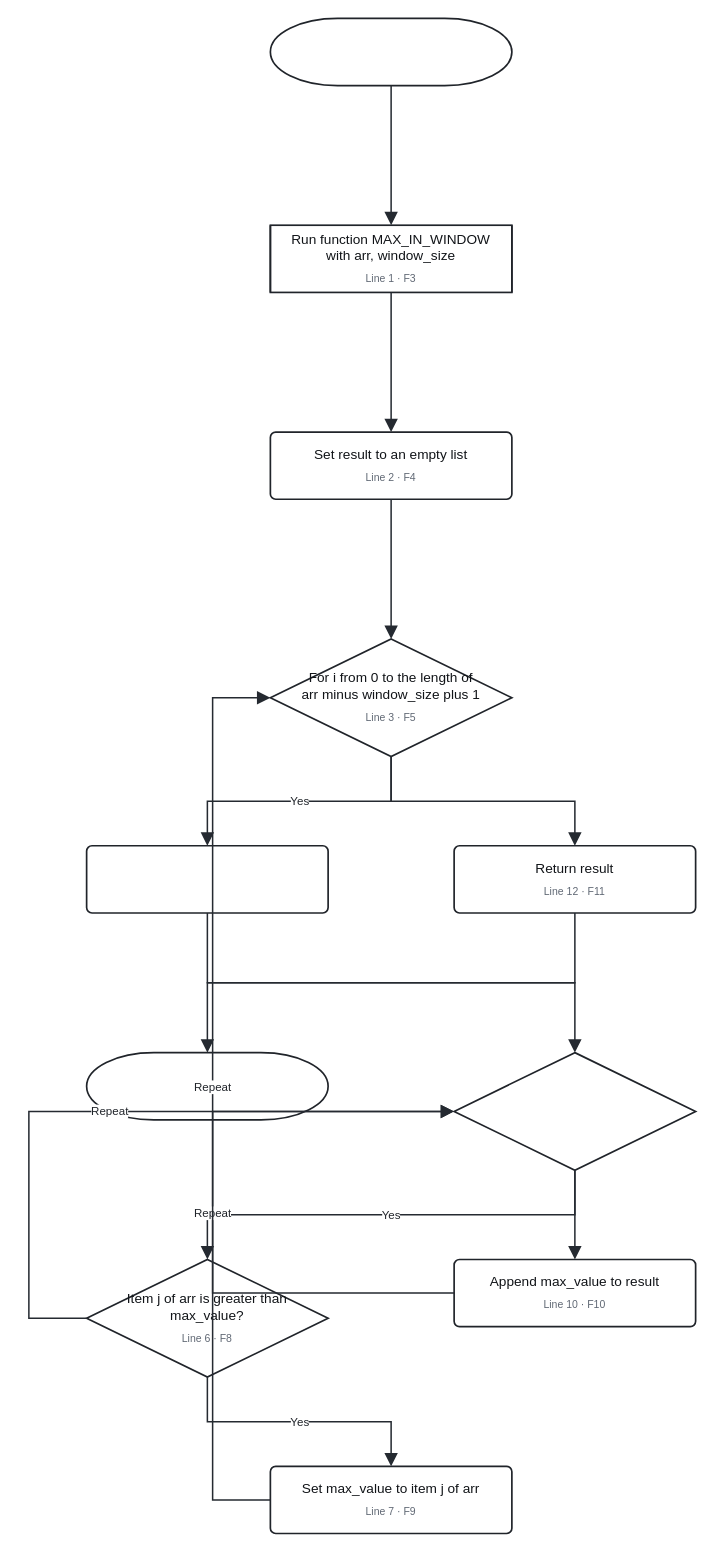
The diagram is 715 pixels wide and 1553 high, and some of its shapes have lost their labels. The shapes that lost their labels are listed below. From the top down, each one's centre as x and y in pixels, then its label:
the point at 390,51: Start Line 1 · F1
the point at 206,878: Set max_value to the result of negative_infinity() Line 4 · F6
the point at 206,1085: End Line 1 · F2
the point at 574,1111: For j from i to i plus window_size minus 1 plus 1 Line 5 · F7
